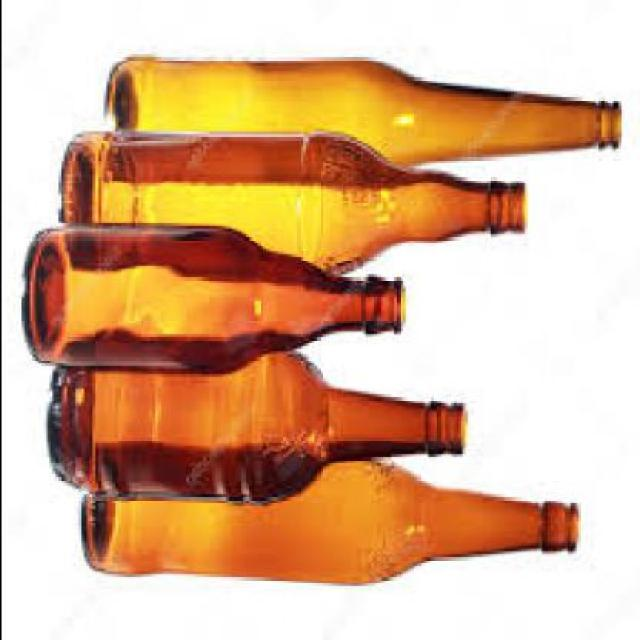GLASS: (63, 135, 529, 279), (48, 348, 467, 506), (85, 462, 578, 588), (105, 58, 622, 168), (25, 229, 407, 377)
